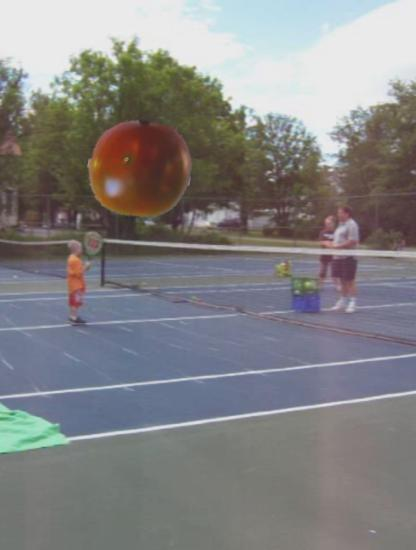Tomato: (88, 118, 192, 222)
